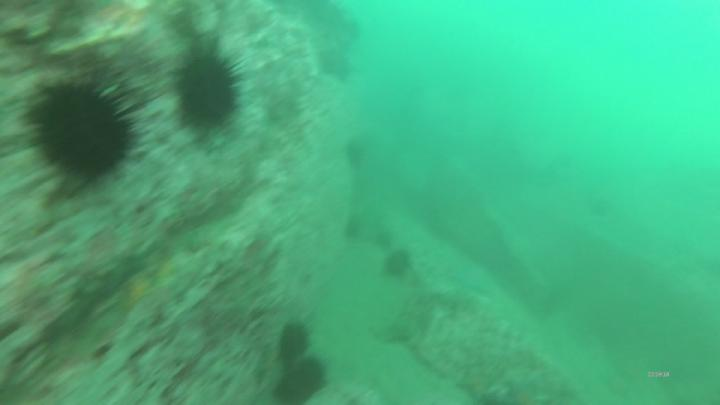echinus: (37, 92, 132, 174), (179, 57, 237, 127), (280, 358, 324, 399), (283, 322, 309, 360), (384, 249, 411, 278)
